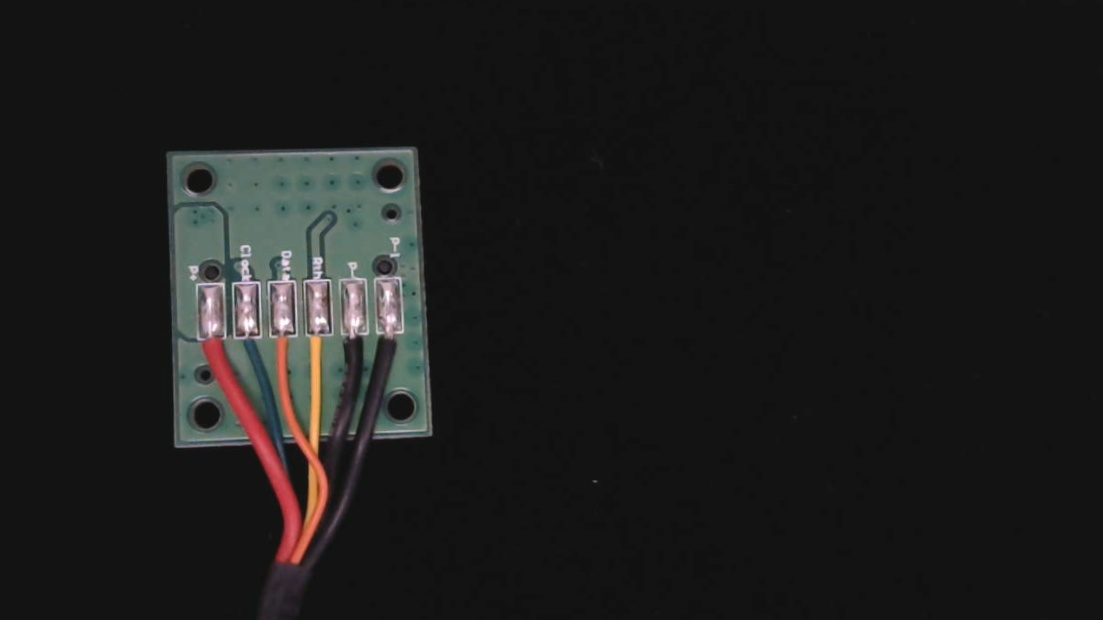Black: (333, 321, 360, 379)
Black1: (368, 320, 394, 380)
Green: (231, 324, 257, 381)
Orange: (265, 325, 292, 376)
Red: (196, 325, 221, 382)
Yellow: (298, 322, 325, 383)
